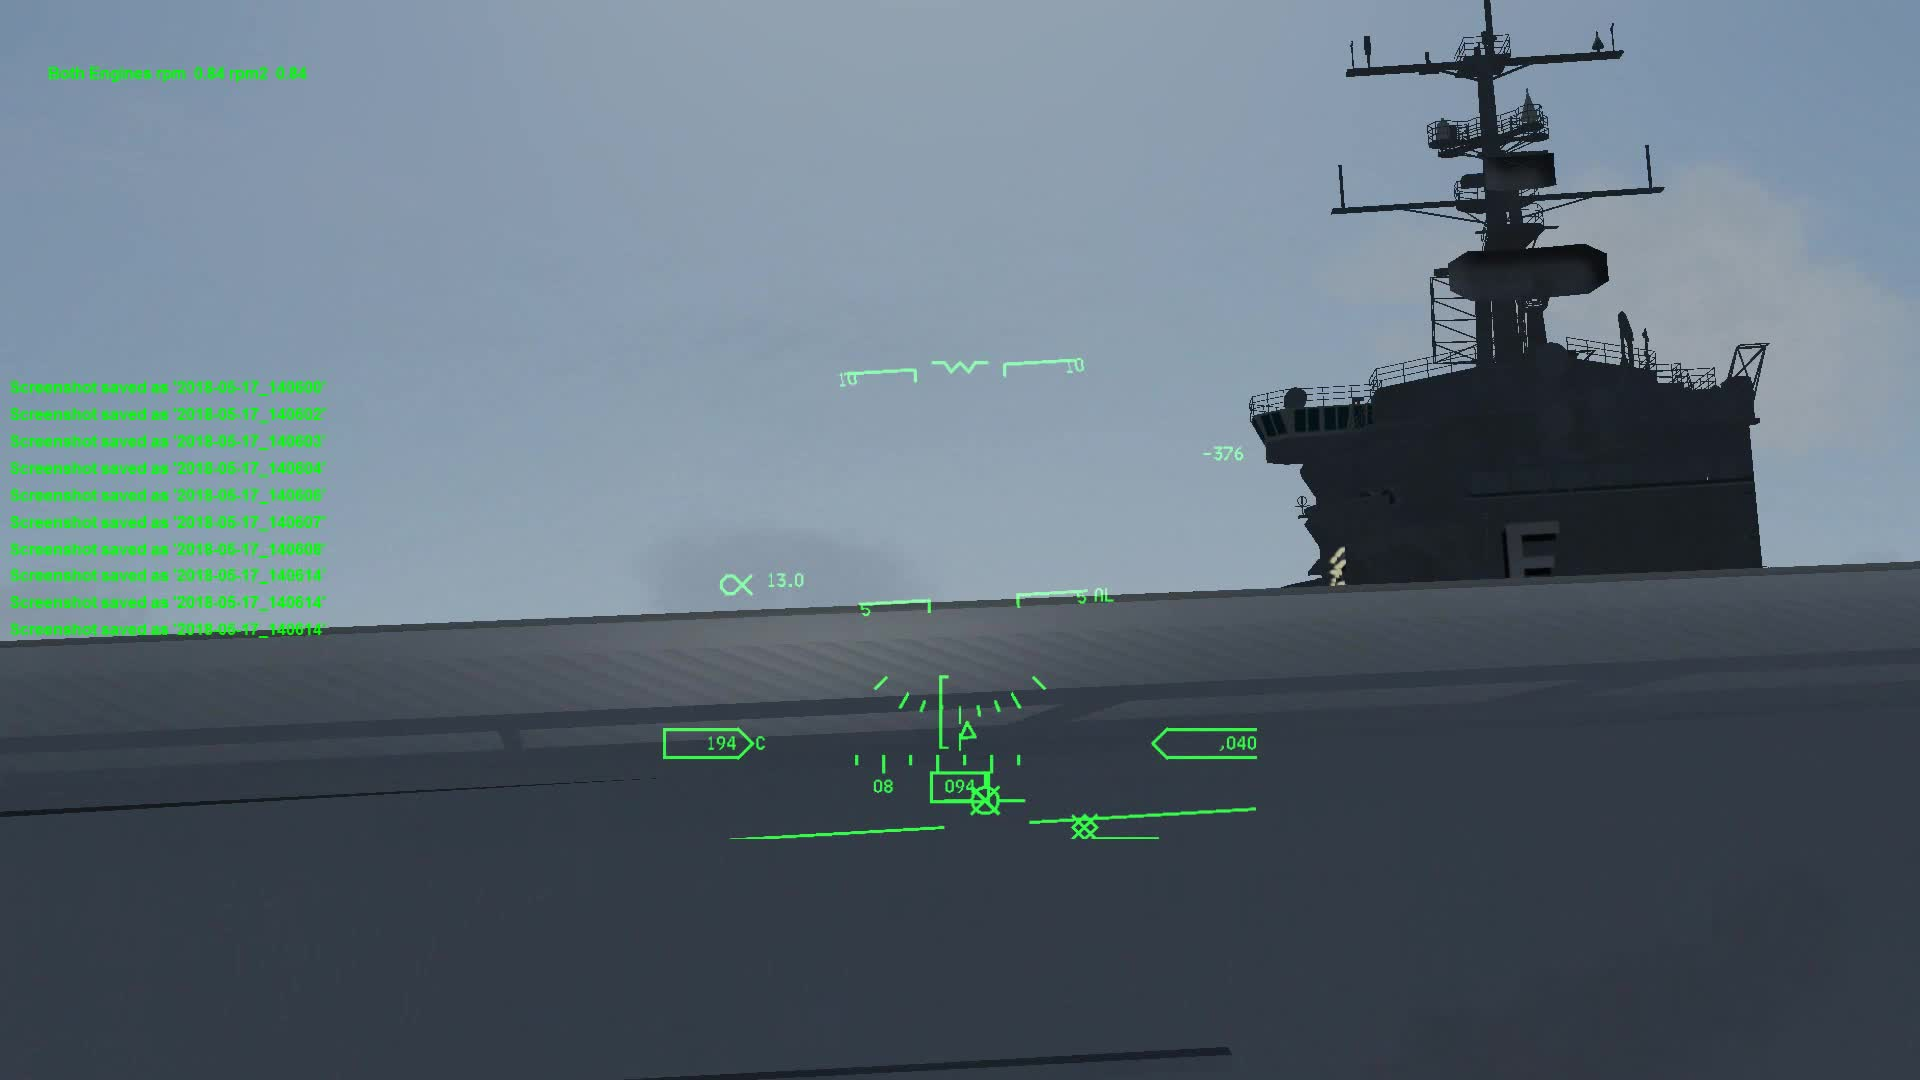speed vector: (943, 787, 1018, 814)
